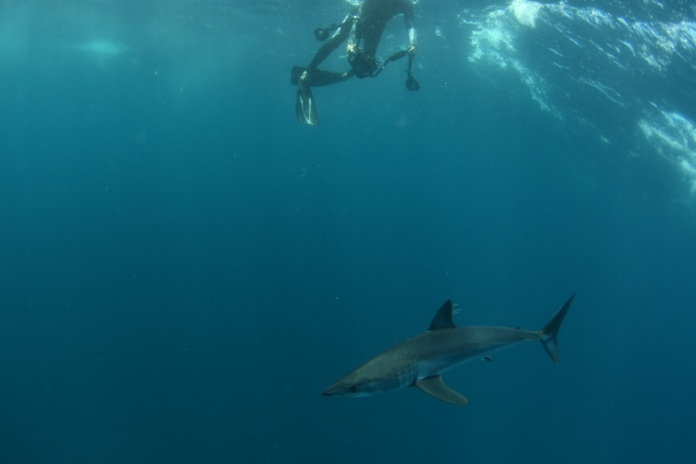Mako: (310, 285, 585, 418)
